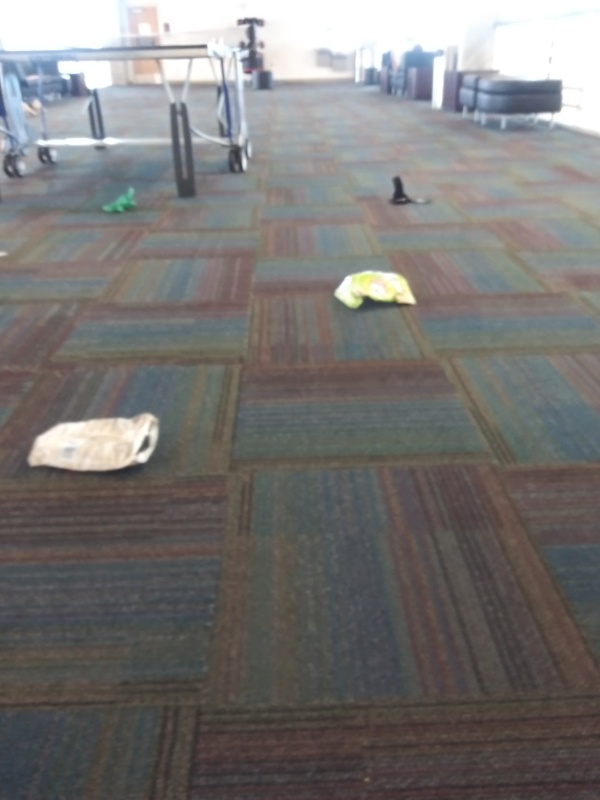bag: (23, 408, 167, 478), (330, 267, 420, 316)
